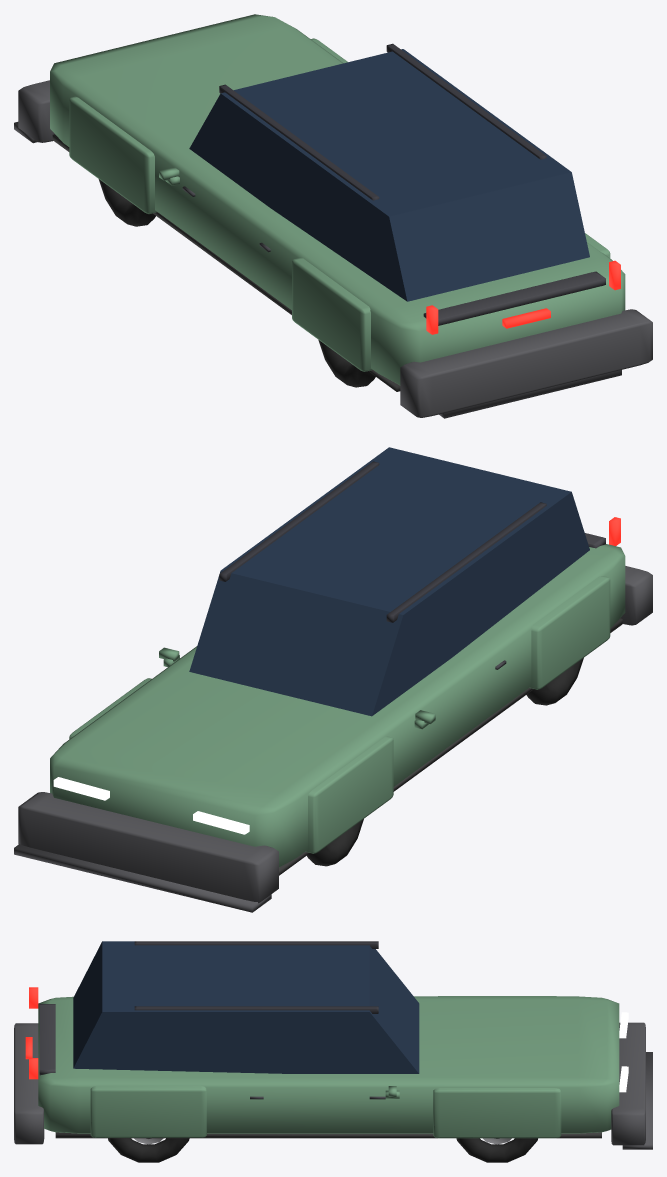
The model's file is wagon.glb.
3 renders of one model, top to bottom at view 1: azimuth 30°, elevation 25°; view 2: azimuth 150°, elevation 25°; view 3: azimuth 270°, elevation 25°, orthographic. The views are drawn at different scales.
Visible parts, largest first — view 1: GlassCanopy, Body, RearBumper, Fender-1F, Fender-1R, Spoiler, FrontBumper, RoofRail, RoofRail.001, Diffuser, UnderBody, Tire3 (+1 smaller); view 2: GlassCanopy, Body, FrontBumper, Fender-1F, Fender-1R, Splitter, RearBumper, RoofRail.001, RoofRail, UnderBody, Tire3, Tire1; view 3: GlassCanopy, Body, Fender+1F, Fender+1R, FrontBumper, RearBumper, UnderBody, Tire0, Tire2, RoofRail, RoofRail.001, Spoiler (+1 smaller).
Boxes of the visible parts, bbox=[...] form: GlassCanopy: bbox=[189, 49, 589, 301]; Body: bbox=[50, 14, 625, 385]; RearBumper: bbox=[400, 309, 652, 417]; Fender-1F: bbox=[69, 96, 156, 213]; Fender-1R: bbox=[292, 258, 372, 371]; Spoiler: bbox=[423, 271, 605, 325]; FrontBumper: bbox=[18, 80, 54, 142]; RoofRail: bbox=[386, 43, 546, 159]; RoofRail.001: bbox=[219, 84, 379, 200]; Diffuser: bbox=[439, 370, 621, 418]; UnderBody: bbox=[52, 134, 400, 391]; Tire3: bbox=[318, 340, 375, 387]; GlassCanopy: bbox=[189, 447, 589, 716]; Body: bbox=[50, 544, 625, 867]; FrontBumper: bbox=[18, 792, 278, 903]; Fender-1F: bbox=[305, 736, 393, 853]; Fender-1R: bbox=[529, 576, 610, 689]; Splitter: bbox=[14, 844, 271, 912]; RearBumper: bbox=[620, 566, 652, 625]; RoofRail.001: bbox=[386, 502, 546, 622]; RoofRail: bbox=[219, 461, 379, 581]; UnderBody: bbox=[279, 618, 622, 875]; Tire3: bbox=[526, 658, 583, 705]; Tire1: bbox=[307, 819, 363, 866]; GlassCanopy: bbox=[73, 941, 419, 1073]; Body: bbox=[38, 996, 619, 1133]; Fender+1F: bbox=[433, 1088, 561, 1138]; Fender+1R: bbox=[90, 1085, 206, 1137]; FrontBumper: bbox=[611, 1022, 645, 1145]; RearBumper: bbox=[14, 1023, 44, 1144]; UnderBody: bbox=[55, 1132, 601, 1138]; Tire0: bbox=[456, 1138, 537, 1162]; Tire2: bbox=[108, 1138, 189, 1162]; RoofRail: bbox=[134, 1006, 378, 1013]; RoofRail.001: bbox=[134, 941, 378, 948]; Spoiler: bbox=[39, 1004, 55, 1075].
Size of the model in its own units: 2.14 by 1.41 by 5.5.
